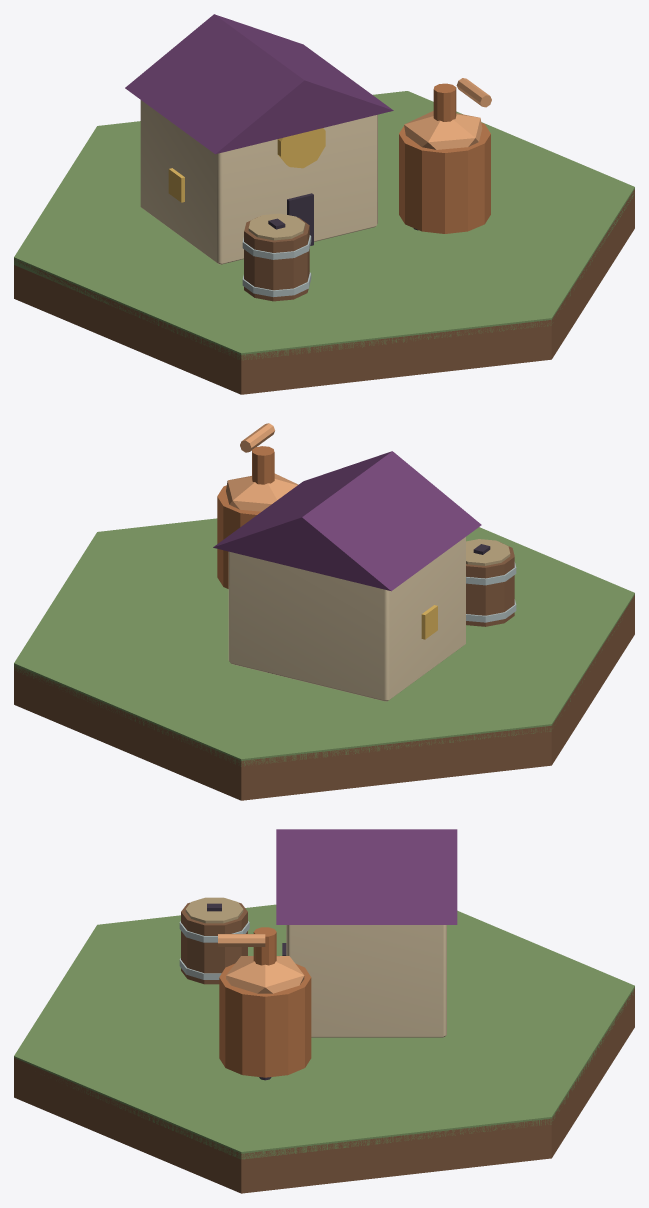
Rendered from brewery.glb.
3 renders of one model, top to bottom at view 1: azimuth 30°, elevation 25°; view 2: azimuth 150°, elevation 25°; view 3: azimuth 270°, elevation 25°, orthographic.
Parts seen in each view (by area): view 1: Cone.060, Cone.059, Cube.009, gable, Cone.061, Cone.066, Icosphere.065, Cone.070, Cone.069, Cone.062, Cube.010, Cone.068 (+1 smaller); view 2: Cone.060, Cube.009, Cone.059, gable, Cone.066, Icosphere.065, Cone.061, Cone.069, Cone.062; view 3: Cone.060, Cone.059, gable, Cube.009, Cone.061, Cone.066, Icosphere.065, Cone.069, Cone.062, Cone.063.
Boxes of the visible parts, x1,y1,x2,y2 form: Cone.060: (14, 91, 634, 360); Cone.059: (14, 189, 634, 394); Cube.009: (140, 100, 377, 264); gable: (125, 14, 393, 154); Cone.061: (399, 122, 490, 233); Cone.066: (244, 217, 309, 301); Icosphere.065: (404, 111, 482, 149); Cone.070: (277, 128, 325, 168); Cone.069: (248, 213, 305, 240); Cone.062: (433, 83, 456, 121); Cube.010: (287, 193, 313, 245); Cone.068: (242, 235, 311, 259); Cone.060: (14, 518, 634, 766); Cube.009: (228, 537, 465, 701); Cone.059: (14, 595, 634, 800); gable: (213, 451, 481, 591); Cone.066: (466, 542, 514, 626); Icosphere.065: (226, 473, 298, 511); Cone.061: (217, 485, 261, 588); Cone.069: (466, 539, 510, 565); Cone.062: (252, 446, 274, 484); Cone.060: (14, 904, 634, 1159); Cone.059: (14, 988, 634, 1193); gable: (276, 829, 457, 924); Cube.009: (286, 925, 446, 1037); Cone.061: (219, 963, 311, 1077); Cone.066: (181, 902, 247, 984); Icosphere.065: (226, 956, 304, 993); Cone.069: (185, 897, 243, 923); Cone.062: (253, 927, 276, 965); Cone.063: (218, 934, 265, 946).
Size of the model in its own units: 3.67 by 1.38 by 3.67.
